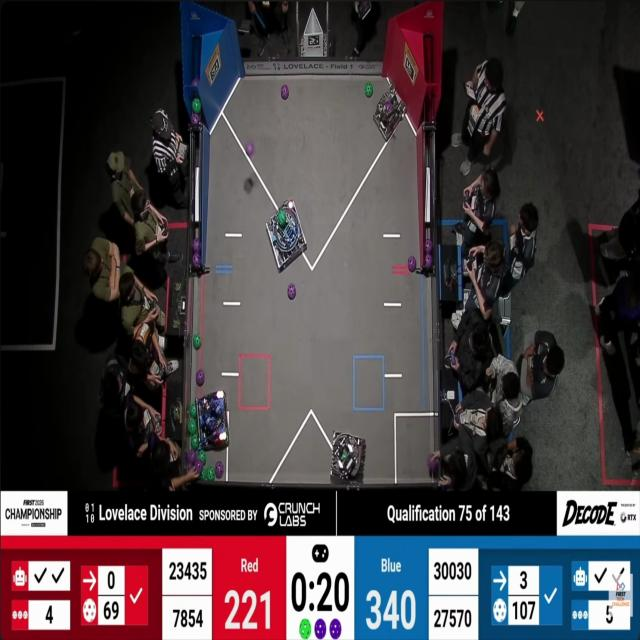artifact_green: (299, 619, 311, 640), (187, 449, 197, 467), (196, 369, 205, 387), (278, 209, 286, 228), (192, 98, 201, 113), (188, 420, 197, 435), (201, 468, 211, 481), (193, 334, 201, 350), (190, 403, 198, 419), (206, 467, 215, 481), (195, 461, 203, 476), (365, 83, 373, 98), (191, 435, 199, 449), (191, 114, 200, 125), (208, 467, 215, 481), (198, 450, 206, 462), (205, 472, 214, 482), (196, 473, 206, 481)
artifact_purple: (212, 398, 224, 418), (315, 619, 326, 639), (330, 619, 341, 639), (188, 449, 198, 466), (428, 458, 438, 475), (215, 462, 224, 479), (196, 369, 205, 386), (288, 283, 296, 300), (408, 256, 416, 272), (195, 460, 203, 475), (425, 254, 433, 268), (246, 143, 254, 157), (193, 238, 201, 252), (281, 85, 289, 99), (425, 239, 433, 253), (193, 252, 200, 268), (191, 113, 200, 125), (199, 434, 207, 447), (385, 101, 392, 113), (192, 78, 199, 86), (188, 465, 195, 472)
